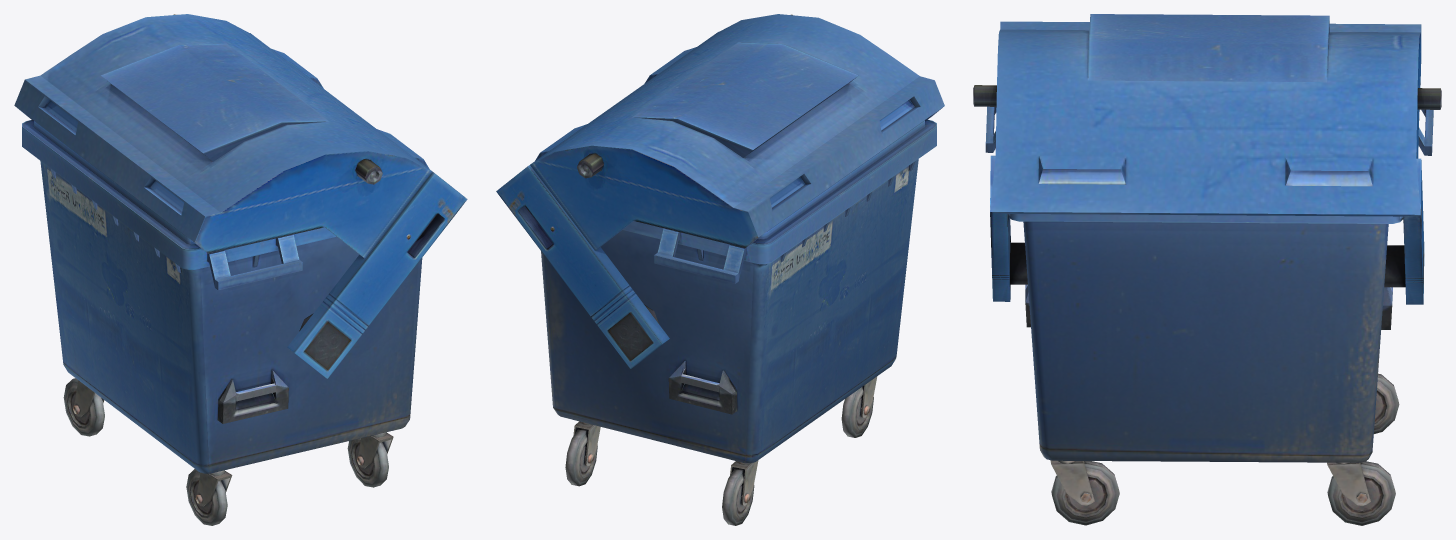
Rendered from GarbageContainer.fbx.
3 views of the same model, side by side, from view 1: azimuth 30°, elevation 25°; view 2: azimuth 150°, elevation 25°; view 3: azimuth 270°, elevation 25° (orthographic). The views are drawn at different scales.
Parts seen in each view (by area): view 1: Cube.144; view 2: Cube.144; view 3: Cube.144.
Part boxes in pixels (left/top/right/bottom): Cube.144: left=14, top=14, right=467, bottom=525; Cube.144: left=496, top=14, right=944, bottom=525; Cube.144: left=973, top=14, right=1441, bottom=525.
Size of the model in its own units: 339 by 262 by 346.
